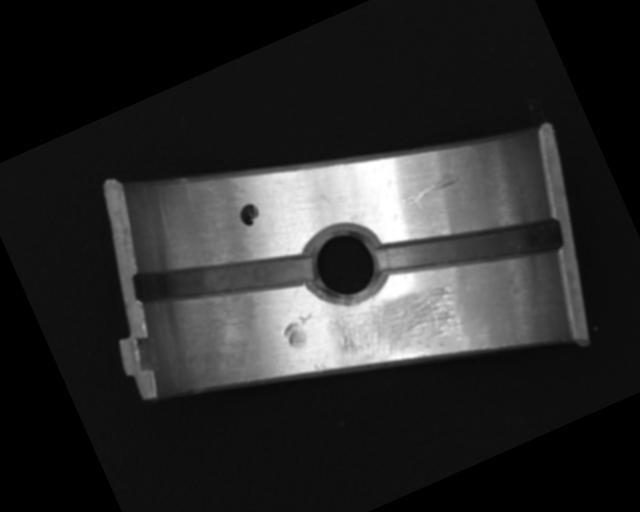blot: (235, 200, 263, 229)
bruise: (278, 309, 324, 353), (311, 358, 332, 377)
gap: (128, 206, 316, 348), (374, 179, 565, 317)
hole: (292, 210, 398, 318)
nick: (399, 168, 462, 209)
scratch: (320, 266, 475, 389)
